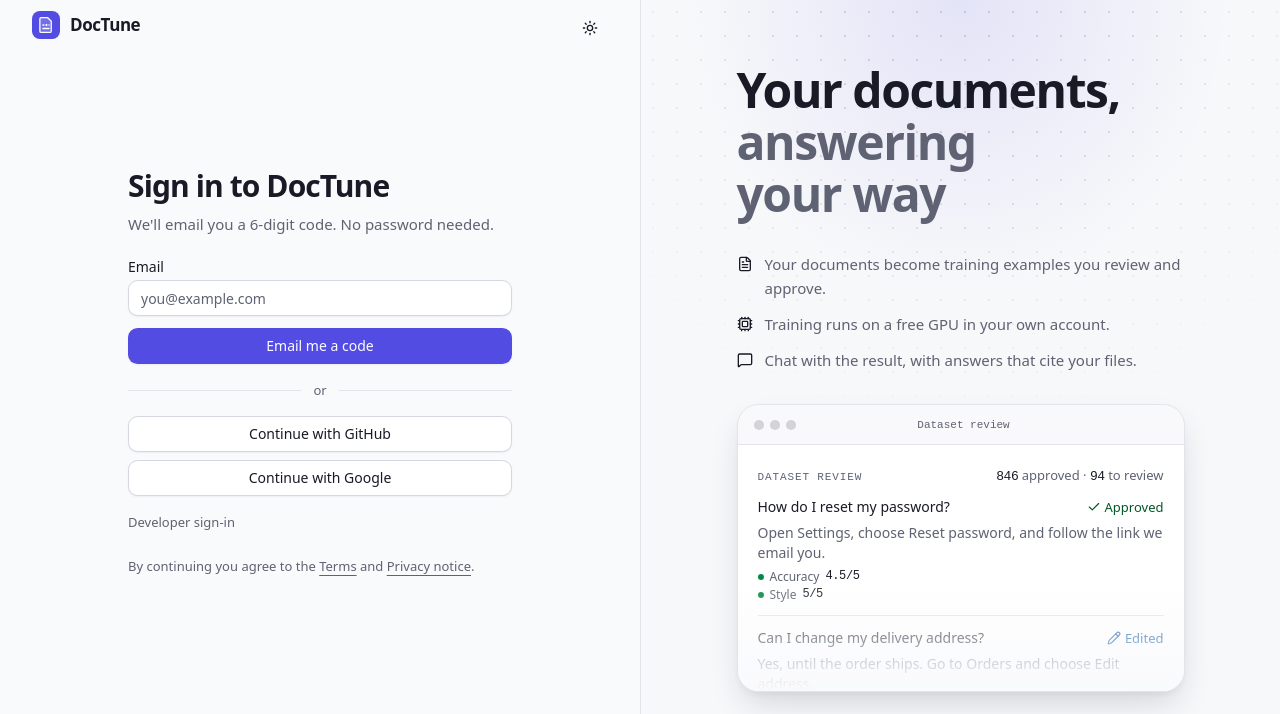
Test: SignIn with an email code › sends a code and shows the code step
The image size is (1280, 714).
Step 1. Type "alice@example.com" into the field labelled "Email" → (320, 298), box [128,280,512,316]
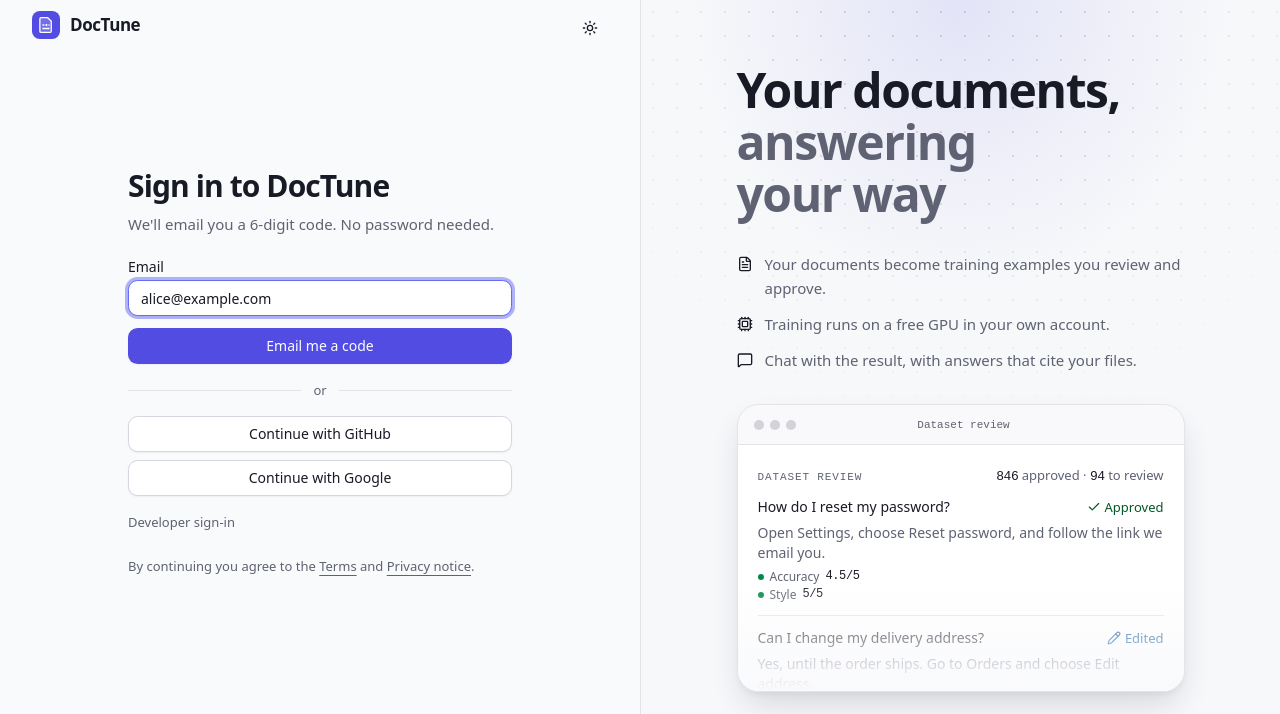
Step 2. Click the button "Email me a code" → (320, 346), box [128,328,512,364]
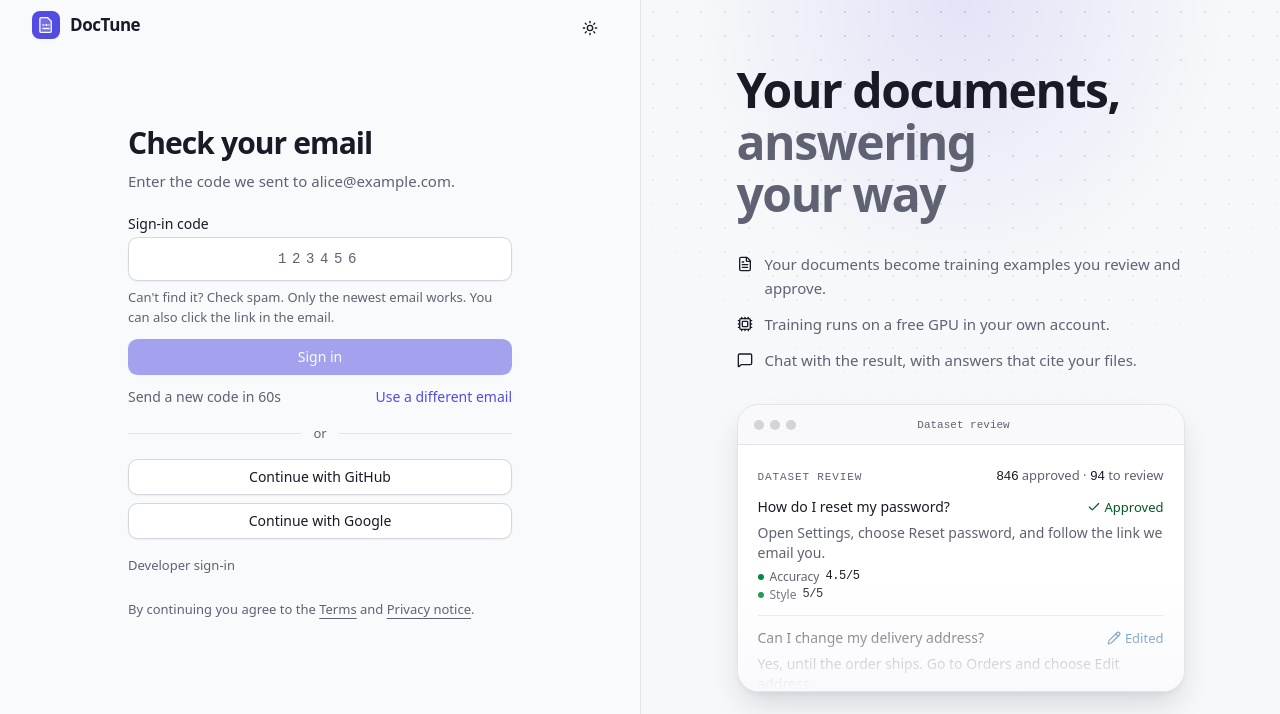
Expected: the field labelled "Sign-in code" is shown, [128,237,512,281]
Result: the text "Enter the code we sent to alice@example.com." is shown at [128,169,512,193]
